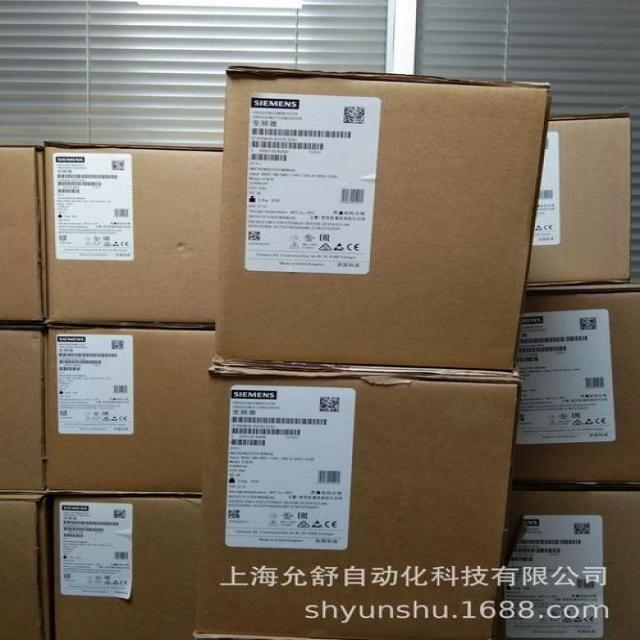box: (214, 55, 534, 393), (198, 358, 516, 638), (24, 318, 228, 501), (34, 138, 230, 324), (32, 483, 216, 640), (500, 478, 640, 640), (512, 292, 626, 490), (512, 113, 634, 287)
